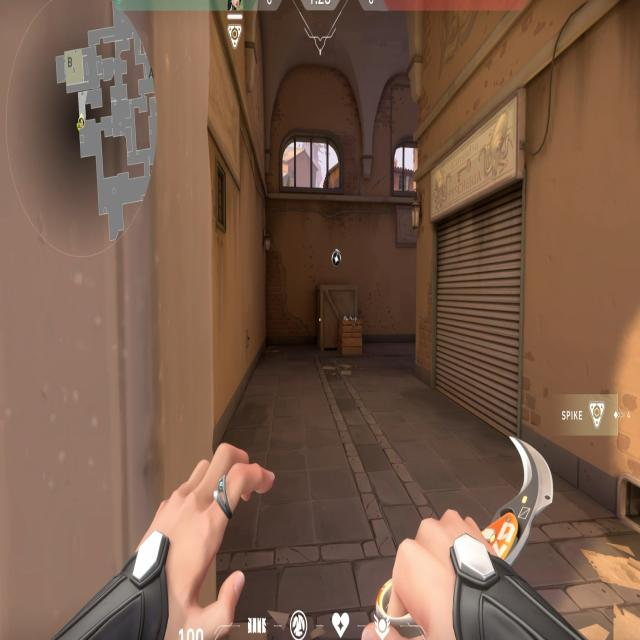B_Main_Wallbang: (308, 240, 371, 374)
Throwables: (274, 127, 343, 199), (391, 140, 420, 205)
